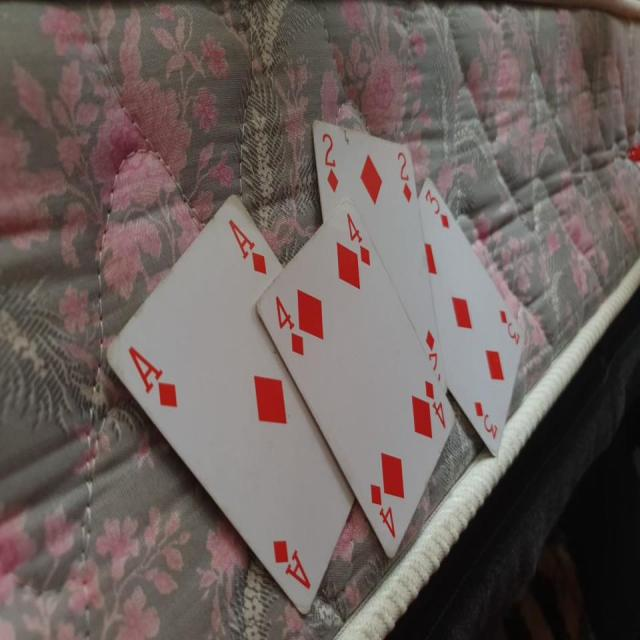2 Diamonds: (310, 119, 448, 392)
3 Diamonds: (418, 170, 528, 460)
4 Diamonds: (258, 196, 461, 568)
A Diamonds: (102, 188, 359, 612)
